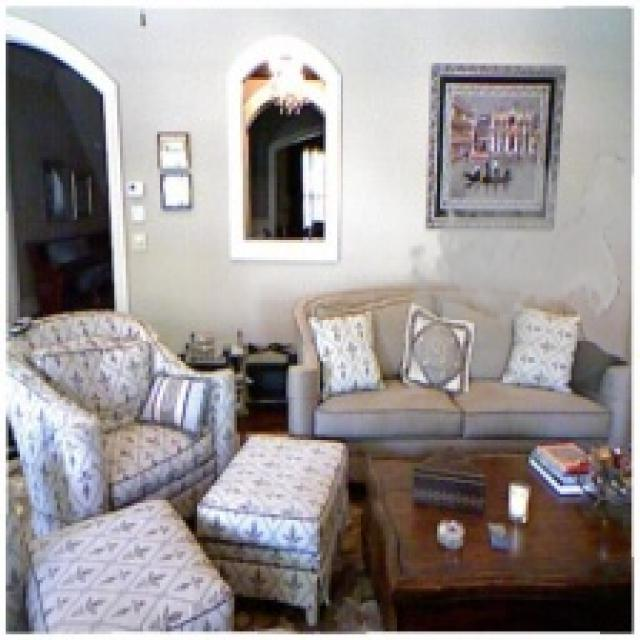smoke: (394, 146, 626, 411)
